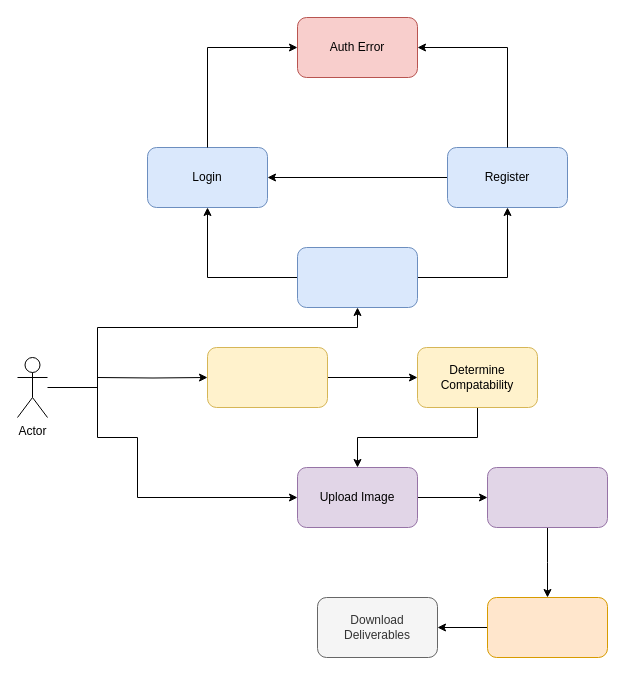
The diagram is 625 pixels wide and 675 high, and some of its shapes have lost their labels. The shapes that lost their labels are listed below. From the top down, each one's centre as x and y in pixels, then its label:
At point (357, 277): "Auth".
At point (267, 377): "Introduction Level".
At point (547, 497): "Review Wireframe".
At point (547, 627): "Access Deliverables".
